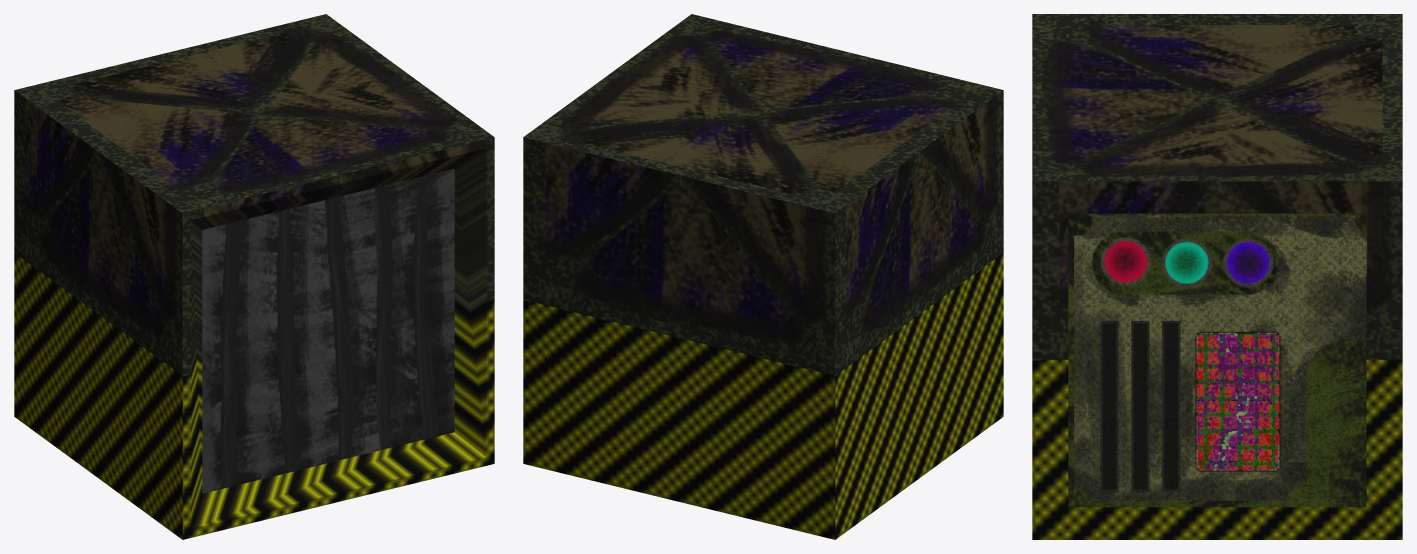
The model's file is Spawner.002.fbx.
3 renders of one model, left to right at view 1: azimuth 30°, elevation 25°; view 2: azimuth 150°, elevation 25°; view 3: azimuth 270°, elevation 25°, orthographic. The views are drawn at different scales.
Parts seen in each view (by area): view 1: Cube; view 2: Cube; view 3: Cube.
Boxes of the visible parts, x1=… form: Cube: x1=14, y1=14, x2=494, y2=539; Cube: x1=523, y1=14, x2=1003, y2=539; Cube: x1=1032, y1=14, x2=1402, y2=539.
Size of the model in its own units: 2.14 by 2.14 by 2.
